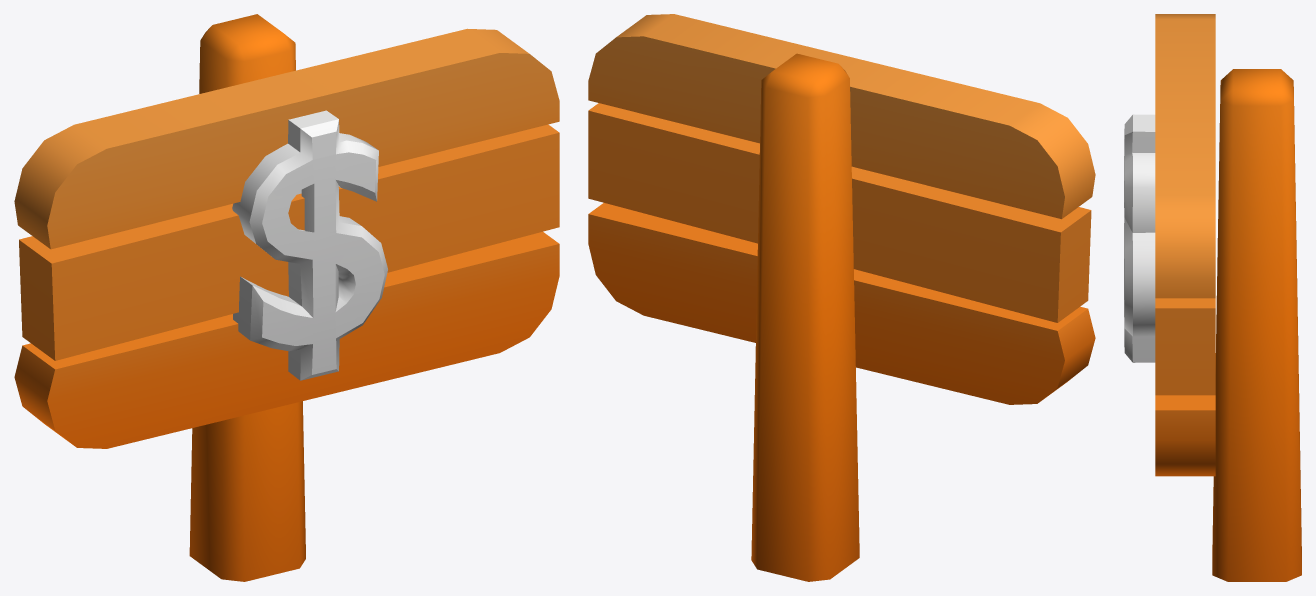
The model's file is Props_Wooden_Sign_For_Sell_01.fbx.
The picture shows the model from 3 angles, left to right: view 1: azimuth 30°, elevation 25°; view 2: azimuth 150°, elevation 25°; view 3: azimuth 270°, elevation 25°; orthographic projection. The views are drawn at different scales.
Parts seen in each view (by area): view 1: Props_Wooden_Sign_For_Sell_01; view 2: Props_Wooden_Sign_For_Sell_01; view 3: Props_Wooden_Sign_For_Sell_01.
Part boxes in pixels (x1,y1,x2,y2): Props_Wooden_Sign_For_Sell_01: (14, 14, 559, 581); Props_Wooden_Sign_For_Sell_01: (588, 14, 1095, 581); Props_Wooden_Sign_For_Sell_01: (1124, 14, 1301, 581).
Bounding box in the file's own units: 90.11 × 88.8 × 29.57.
